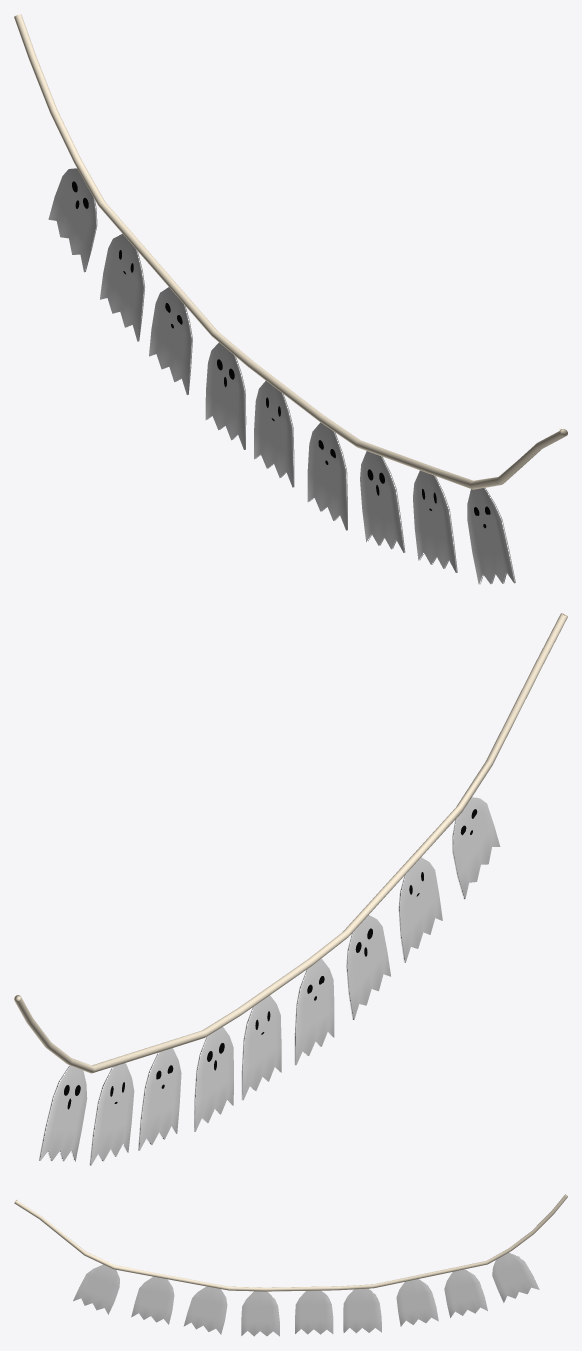
The model's file is garland.fbx.
3 views of the same model, one above another, from view 1: azimuth 30°, elevation 25°; view 2: azimuth 150°, elevation 25°; view 3: azimuth 270°, elevation 25° (orthographic). The views are drawn at different scales.
Visible parts, largest first — view 1: garland; view 2: garland; view 3: garland.
Part boxes in pixels (bbox=[...]): garland: bbox=[14, 14, 567, 584]; garland: bbox=[14, 613, 567, 1165]; garland: bbox=[14, 1194, 567, 1336].
Size of the model in its own units: 0.000371 by 0.00651 by 0.0233.
Materials: 1 (1 with a texture image).
